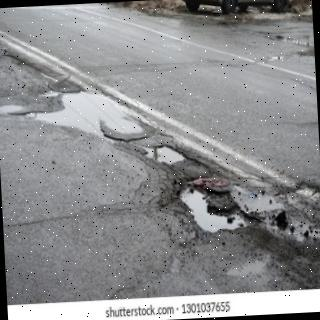pothole: (34, 91, 150, 141), (180, 188, 263, 233), (0, 53, 61, 102), (147, 147, 206, 171)
